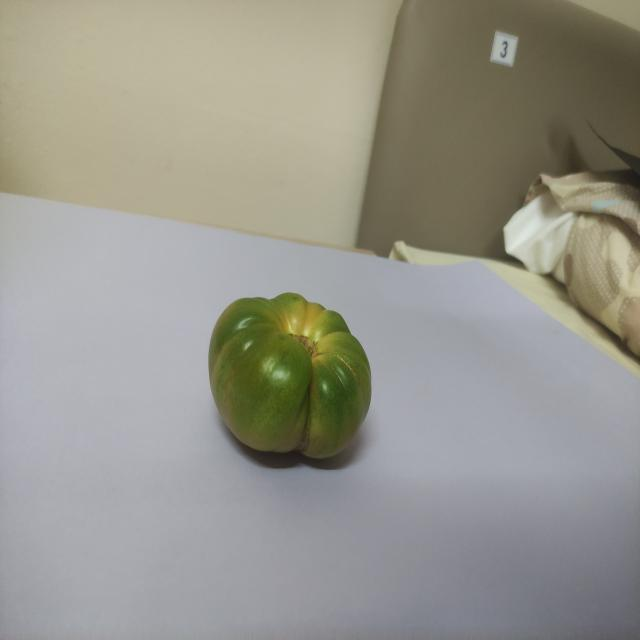yesil: (203, 271, 378, 477)
